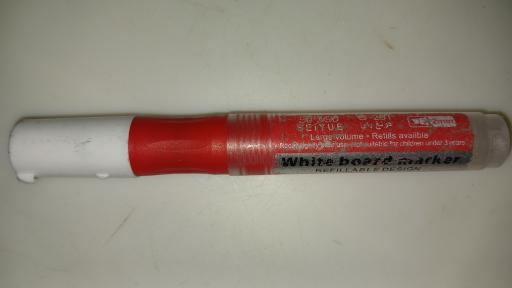Whiteboard marker: (7, 114, 512, 181)
